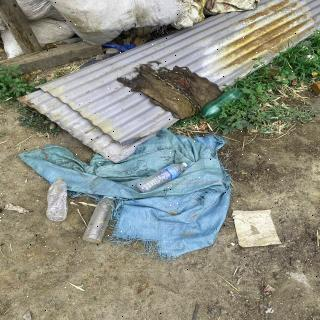Plastic-bottle: (135, 160, 191, 196), (44, 174, 72, 224)
